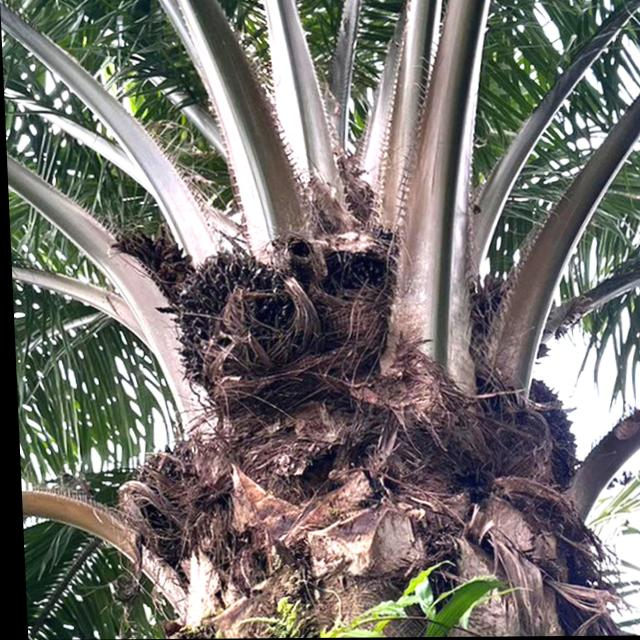unripe: (156, 245, 305, 381), (300, 216, 403, 301), (524, 378, 582, 490)
